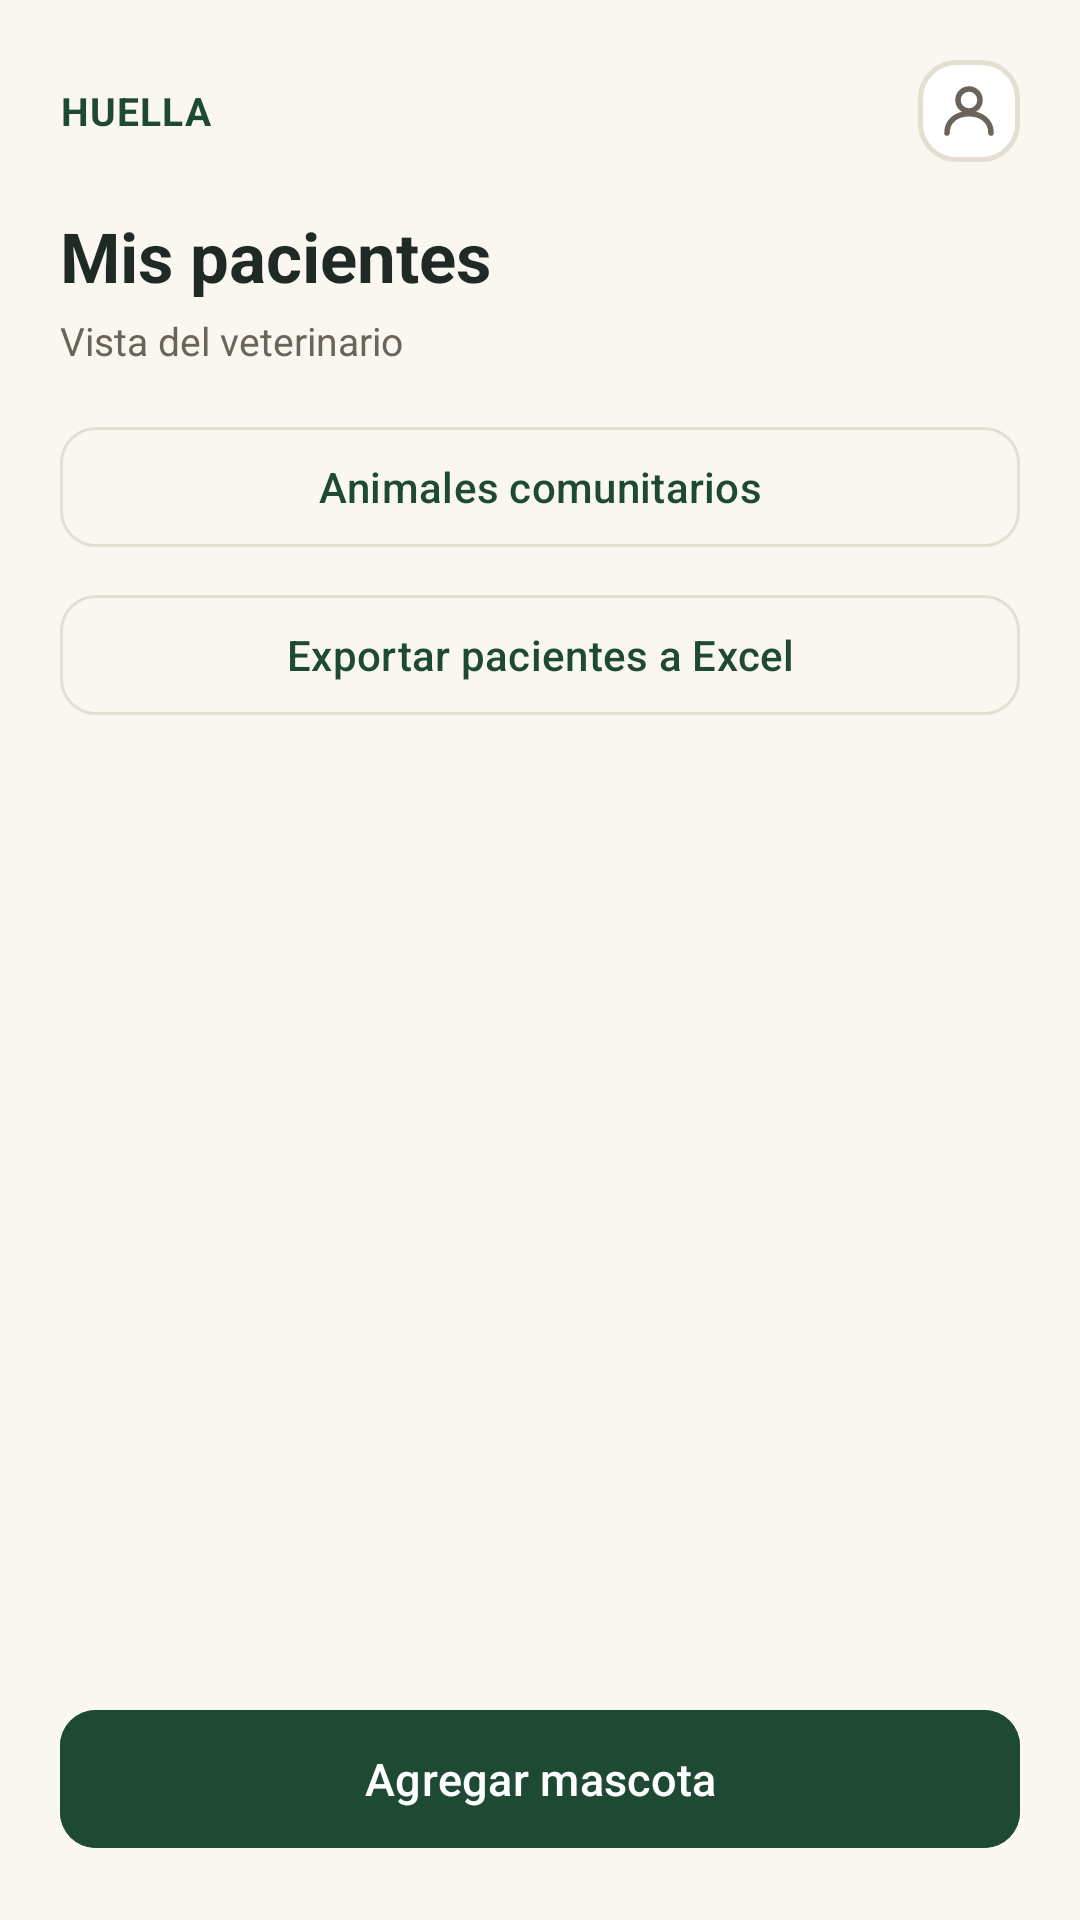

Where to tap for icons on this 1080×1920 app screen, as (x=x, y=y):
Perfil: (x=969, y=111)
